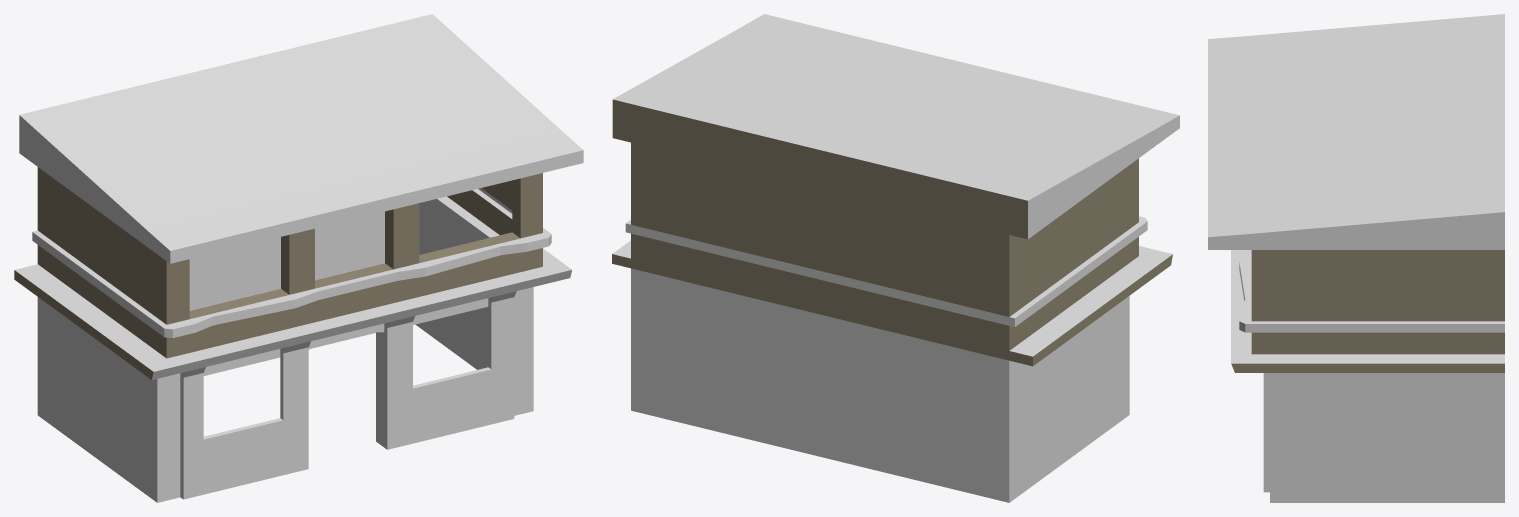
File: House_2_TEX 1.fbx
3 views of the same model, side by side, from view 1: azimuth 30°, elevation 25°; view 2: azimuth 150°, elevation 25°; view 3: azimuth 270°, elevation 25° (orthographic). The views are drawn at different scales.
Parts seen in each view (by area): view 1: Cube; view 2: Cube; view 3: Cube.
Boxes of the visible parts, x1,y1,x2,y2 form: Cube: [14, 14, 583, 502]; Cube: [612, 14, 1179, 502]; Cube: [1208, 14, 1504, 502].
Bounding box in the file's own units: 1130 × 787 × 707.
